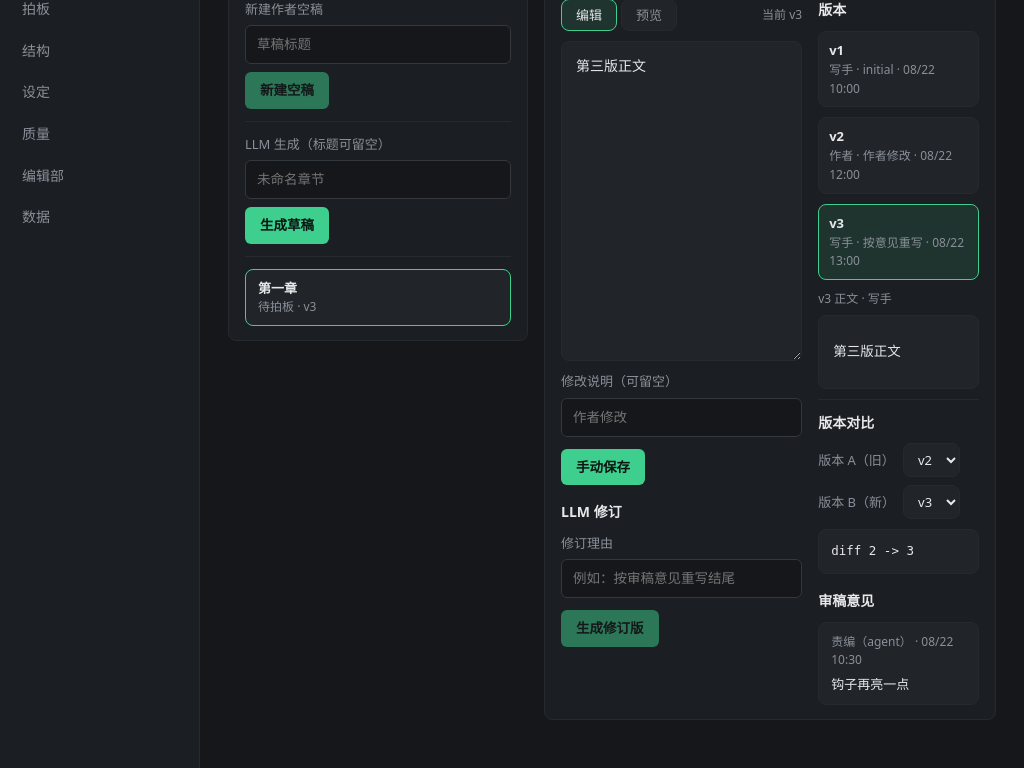
Test: writer page › refetches the diff when the selected versions change
The width and height of the screenshot is (1024, 768).
(page scrolled)
Expected: the text with test id "diff-output" reads "diff 2 -> 3", [831, 543, 914, 558]
Step 1. Select "v1" in the dropdown with test id "diff-version-a" → (931, 460), box [903, 443, 960, 477]
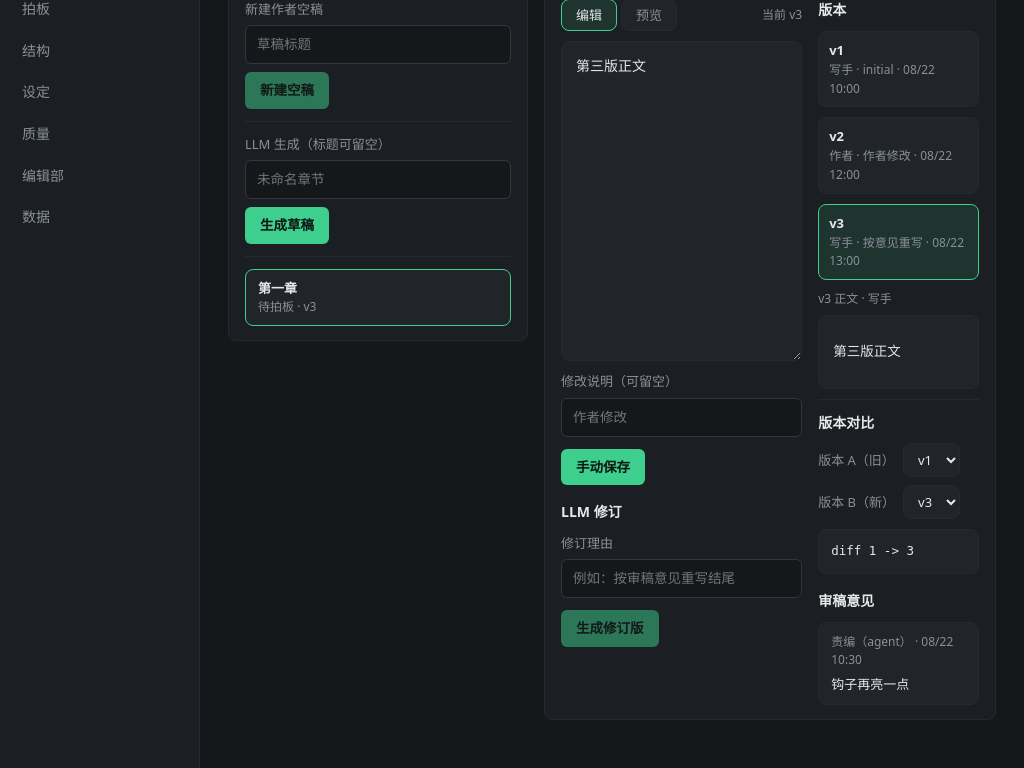
Now the text "diff 1 -> 3" is shown, box [818, 529, 979, 574]
